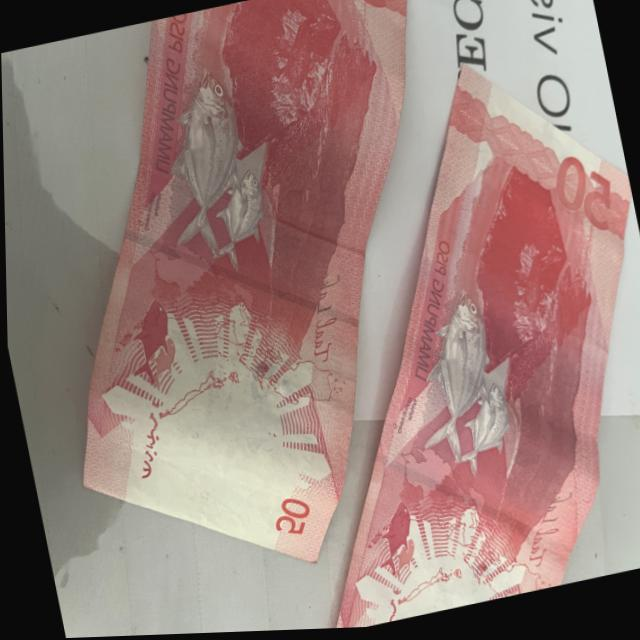50_maliputo: (143, 68, 284, 287), (392, 294, 527, 493)
50_maliputo_watermark: (111, 282, 190, 399), (363, 500, 427, 593)
watermark: (156, 381, 284, 545)
